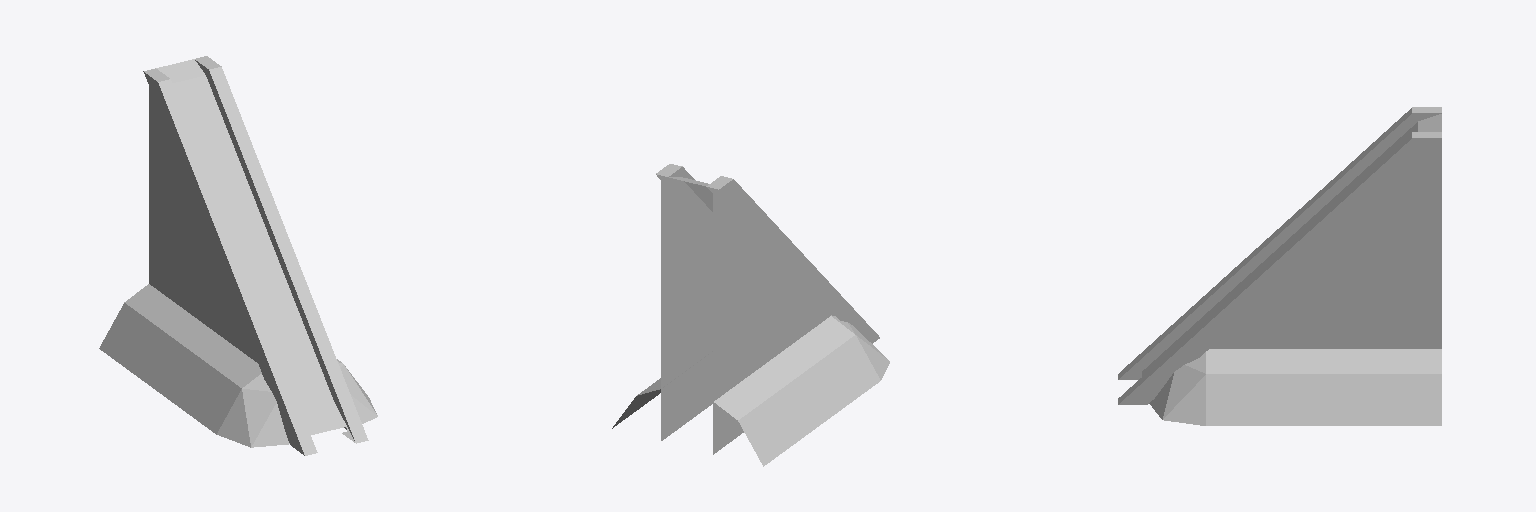
File: r0_stairSkinnyBluff.obj
The picture shows the model from 3 angles: view 1: azimuth 30°, elevation 25°; view 2: azimuth 150°, elevation 25°; view 3: azimuth 270°, elevation 25°; orthographic projection.
Visible parts, largest first — view 1: map; view 2: map; view 3: map.
Part boxes in pixels (left/top/right/bottom): map: left=99, top=56, right=377, bottom=455; map: left=612, top=164, right=889, bottom=466; map: left=1118, top=107, right=1441, bottom=425.
Size of the model in its own units: 3 by 5 by 5.5.